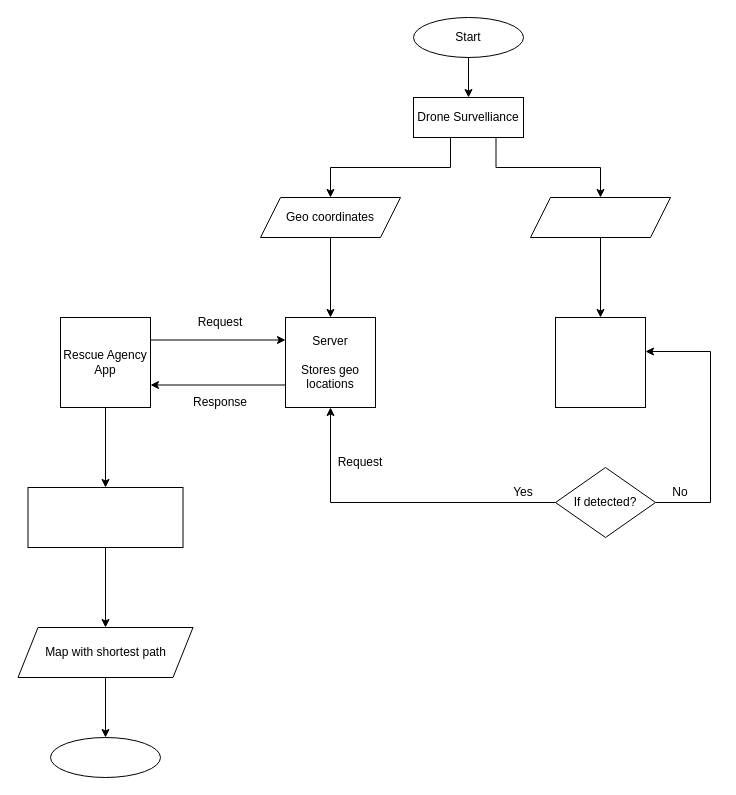
Image size: 736x795. Some labels were removed from this diagram. The shapes that lost their labels are listed below. From the top down, each one's box as (x1, y1, x2, y2) in pixels, then its label:
(530, 196, 670, 238): Video Streaming
(554, 316, 646, 408): Human/Animal Detection module
(27, 486, 183, 548): Map plotting and displaying shortest path
(50, 736, 160, 778): Stop
